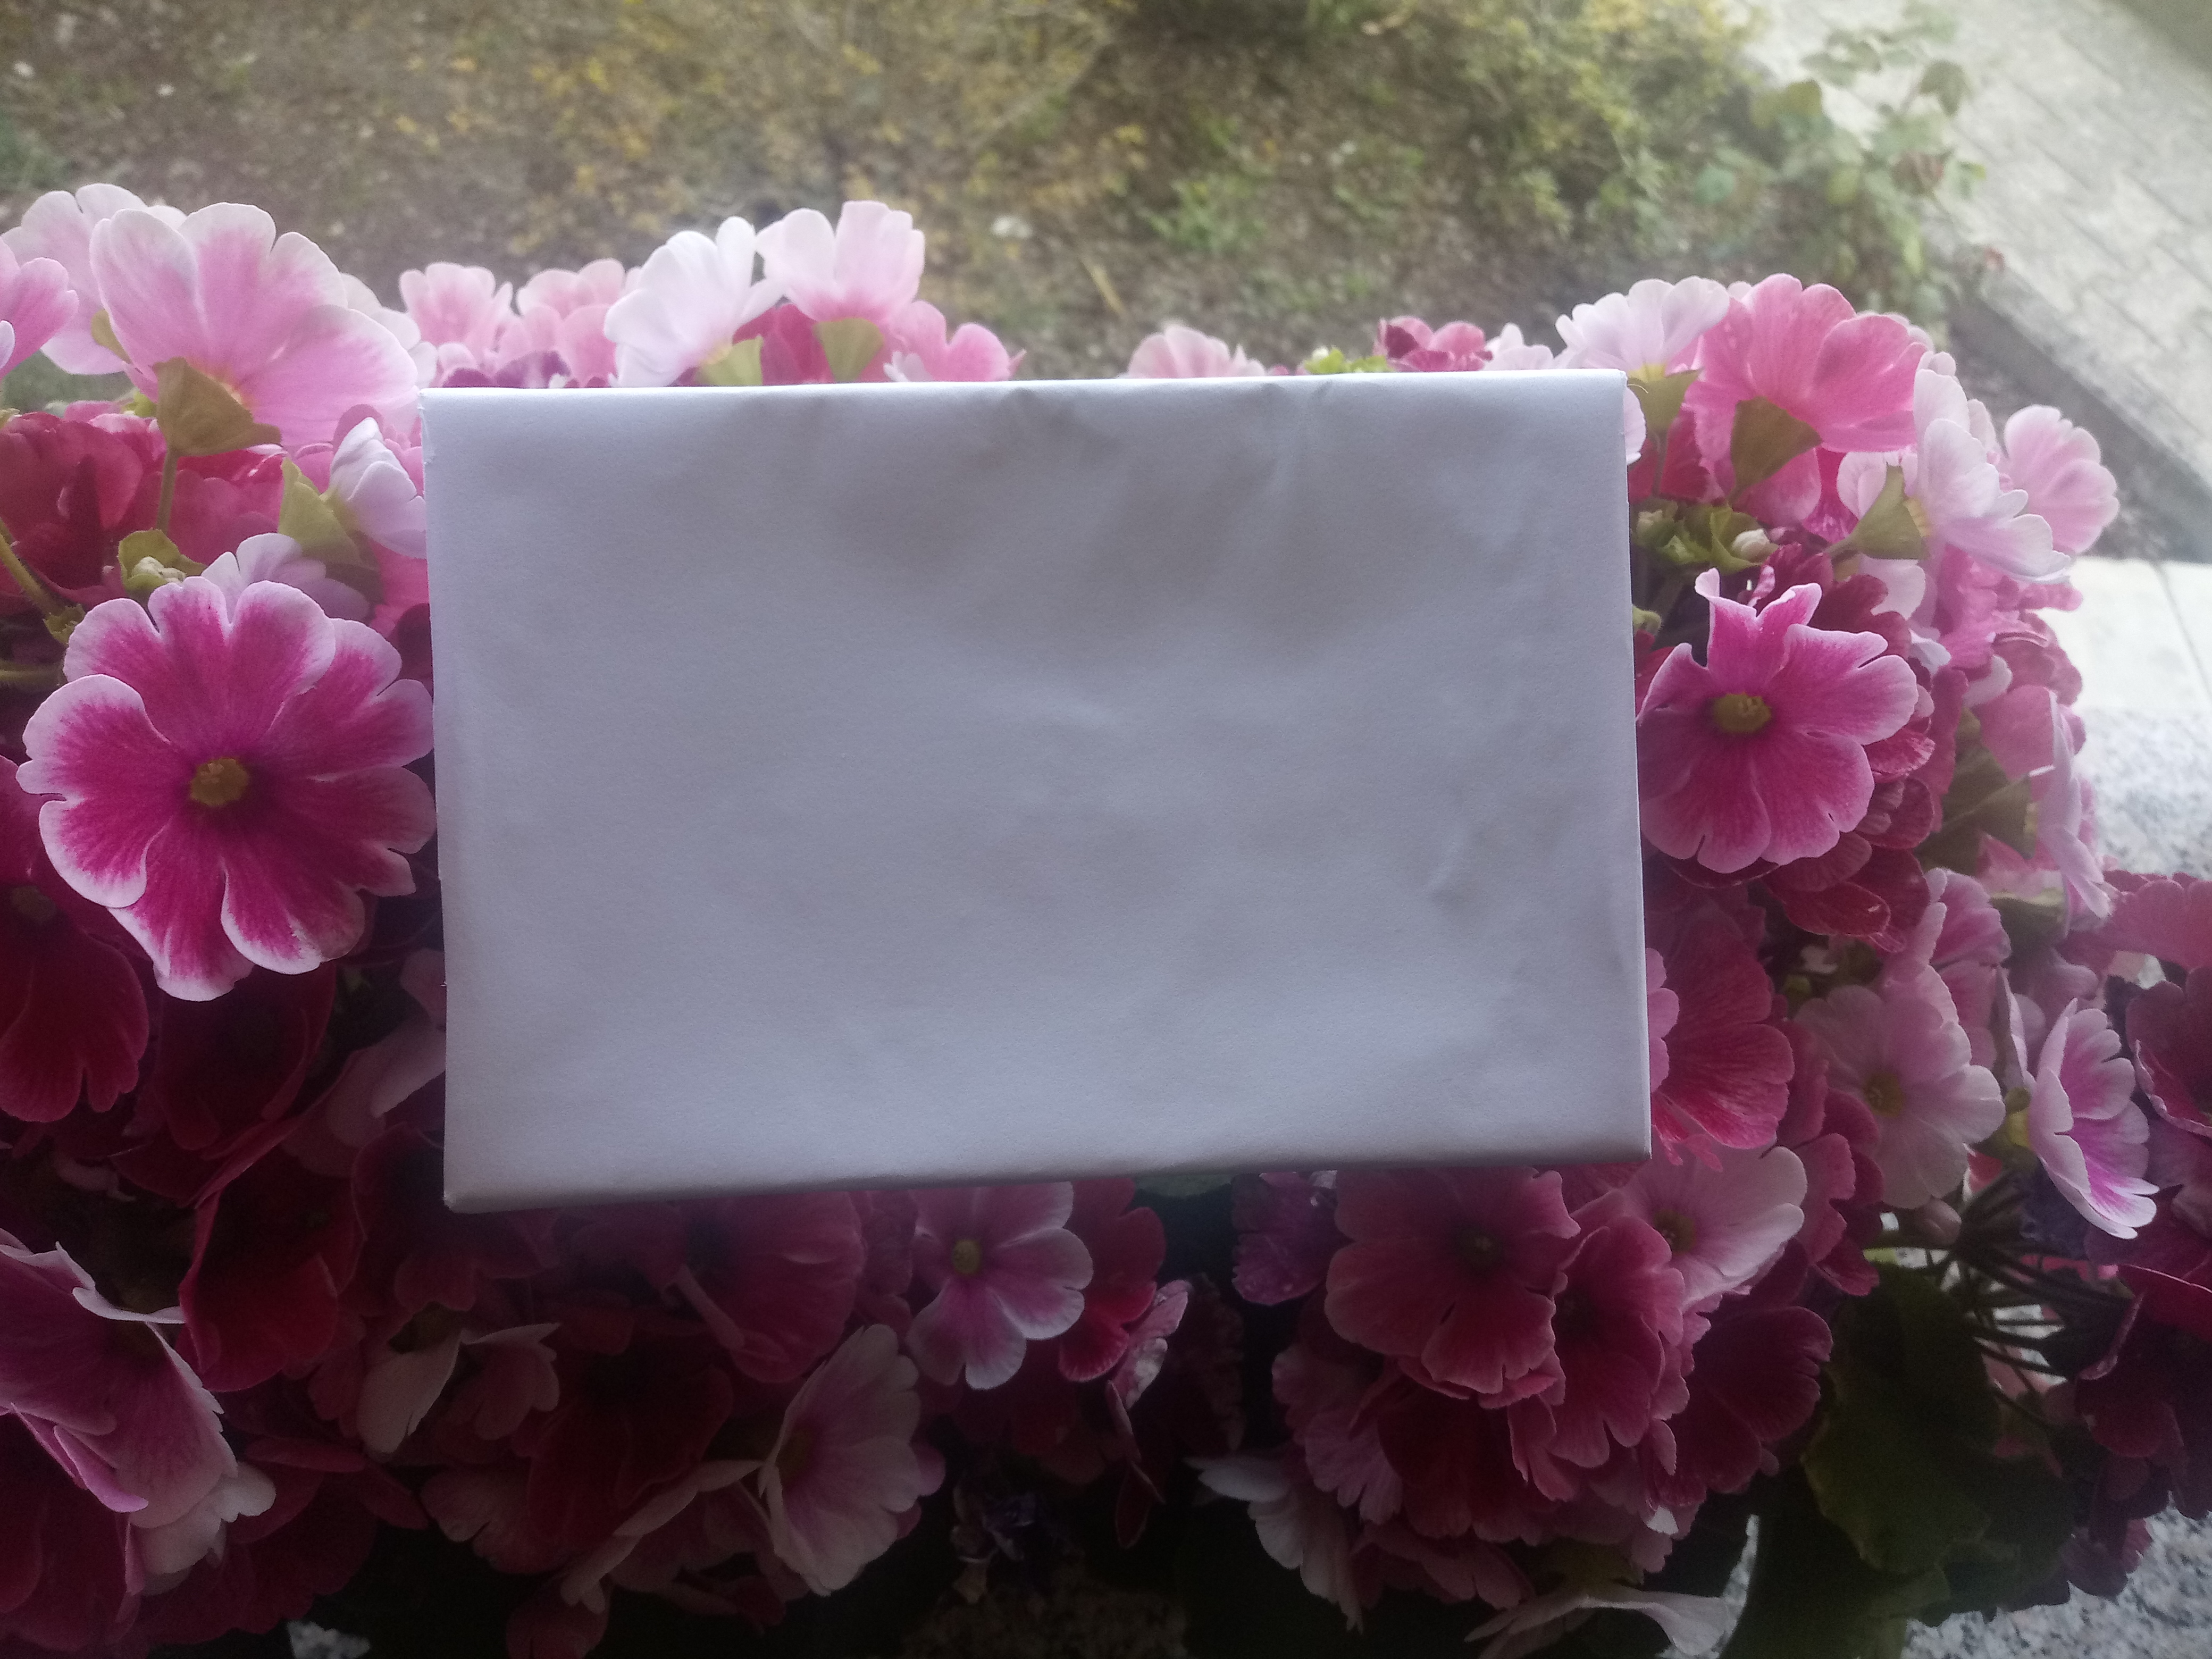white_box: (394, 354, 1672, 1220)
